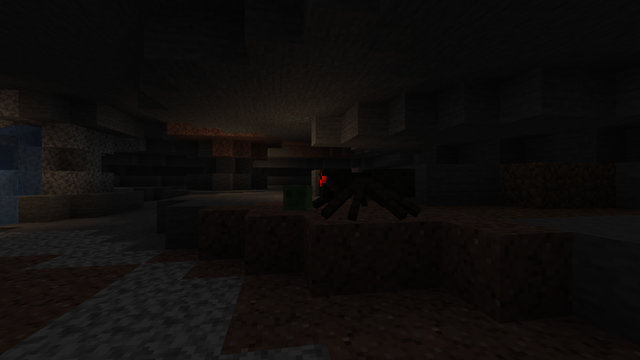araignees: (314, 161, 413, 220)
slimes: (285, 184, 310, 210)
